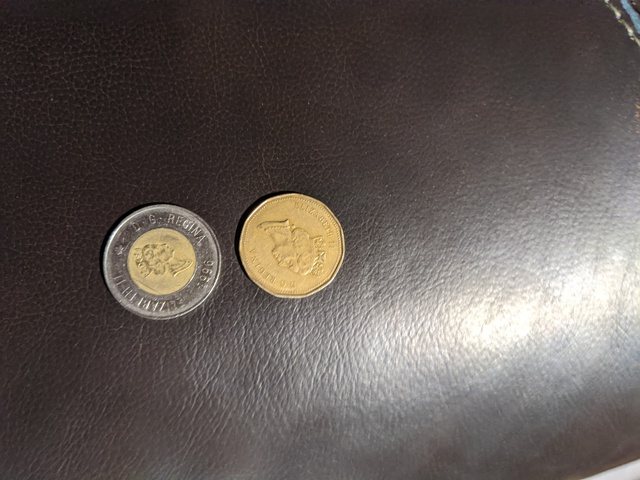loonie: (233, 175, 344, 297)
twonie: (102, 205, 227, 323)
